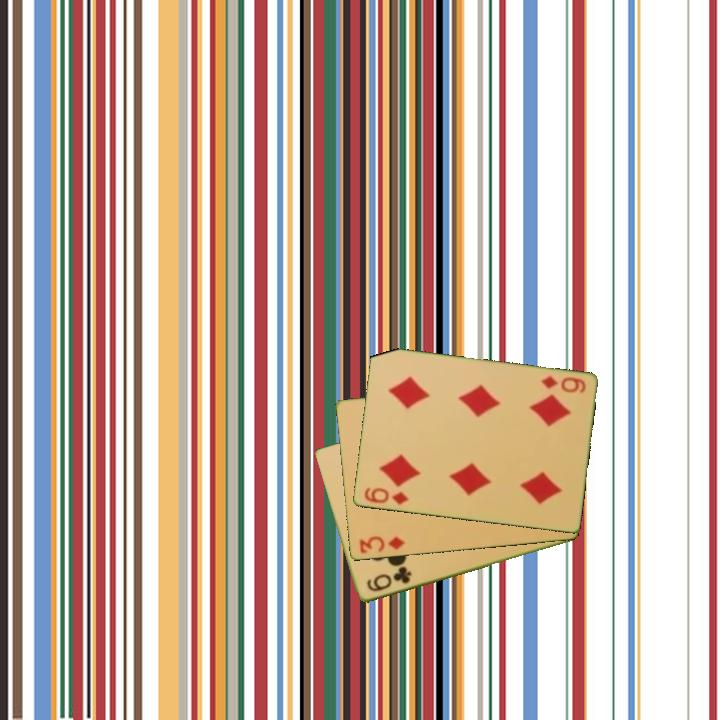3d: (356, 533, 407, 556)
6c: (363, 564, 414, 595)
6d: (360, 484, 411, 508), (537, 372, 588, 396)
